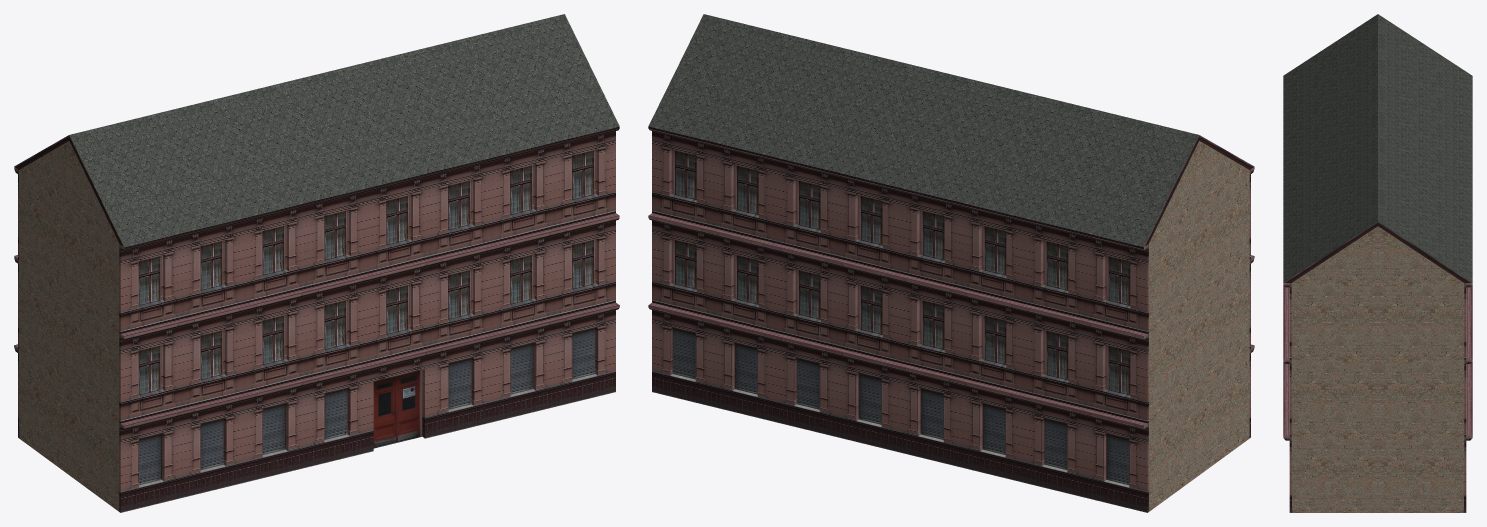
Rendered from PBP1_Building1_2sided.fbx.
3 renders of one model, left to right at view 1: azimuth 30°, elevation 25°; view 2: azimuth 150°, elevation 25°; view 3: azimuth 270°, elevation 25°, orthographic. The views are drawn at different scales.
Visible parts, largest first — view 1: PBP1_Building1_2sided; view 2: PBP1_Building1_2sided; view 3: PBP1_Building1_2sided.
Part boxes in pixels (x1=…): PBP1_Building1_2sided: x1=14, y1=14, x2=619, y2=512; PBP1_Building1_2sided: x1=648, y1=14, x2=1254, y2=512; PBP1_Building1_2sided: x1=1283, y1=14, x2=1472, y2=512.
Size of the model in its own units: 751 by 1942 by 1274.
